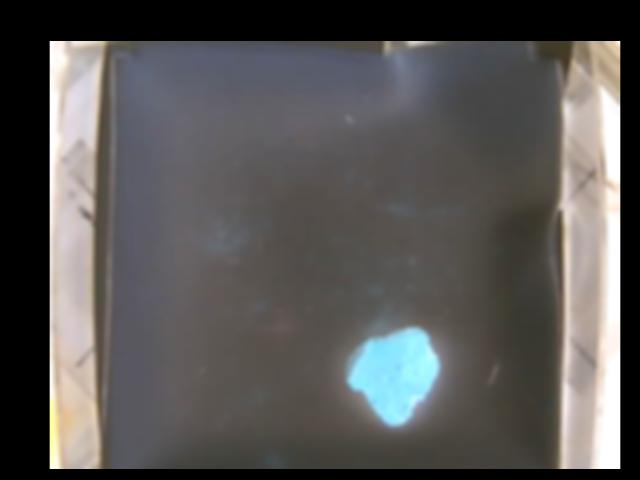Brisk: (345, 324, 437, 425)
